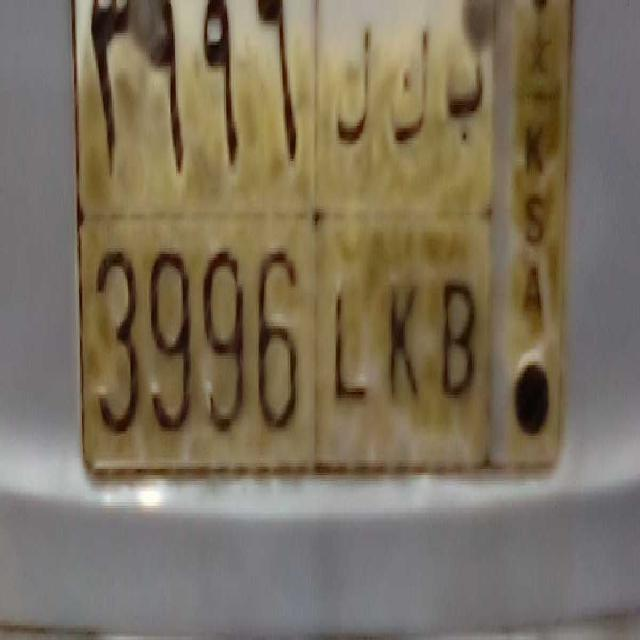license_plate: (82, 212, 486, 460)
